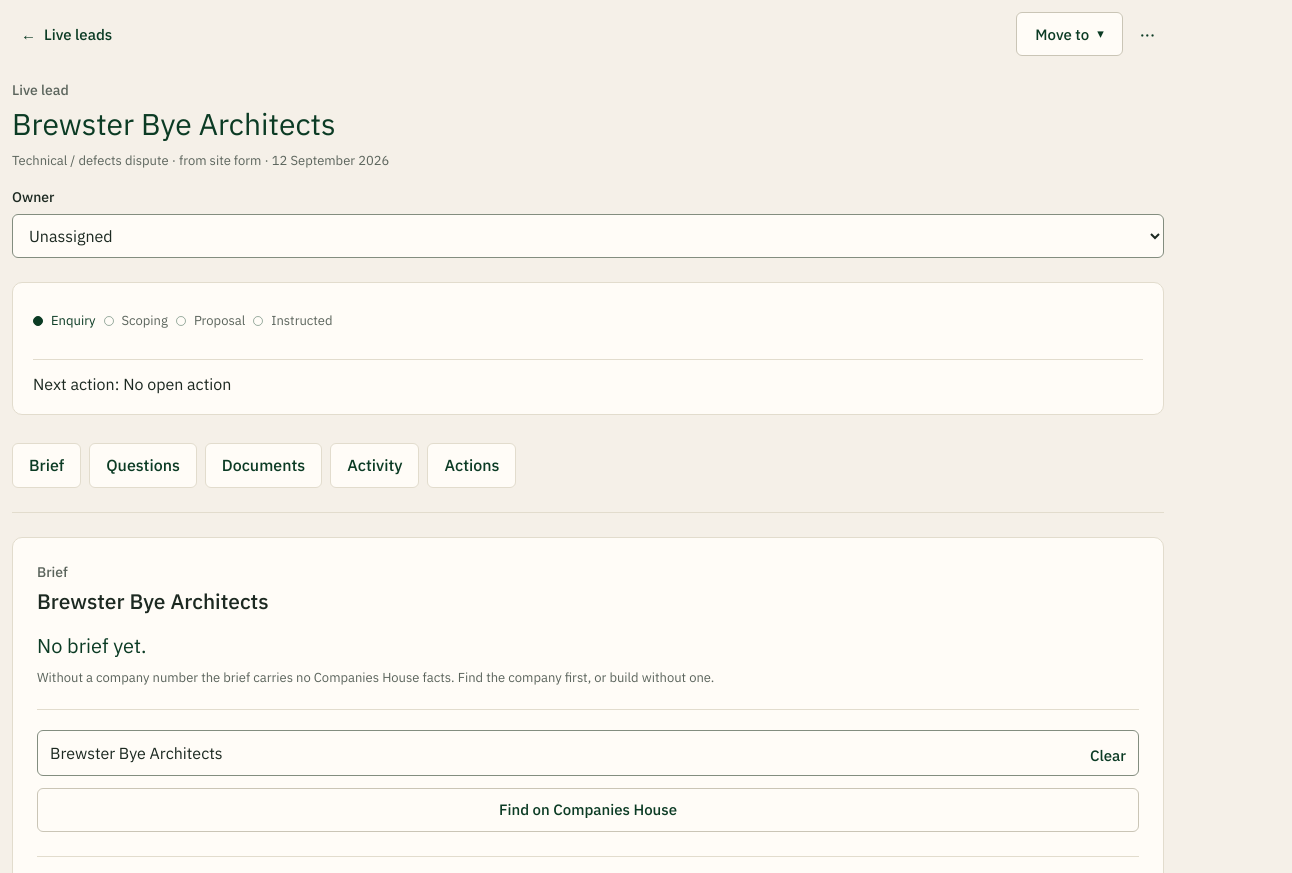
Test: returns focus to More actions when its unmounted Edit details menu item opened the drawer
Click the button named "More actions": click(1147, 34) [1131,12,1164,56]
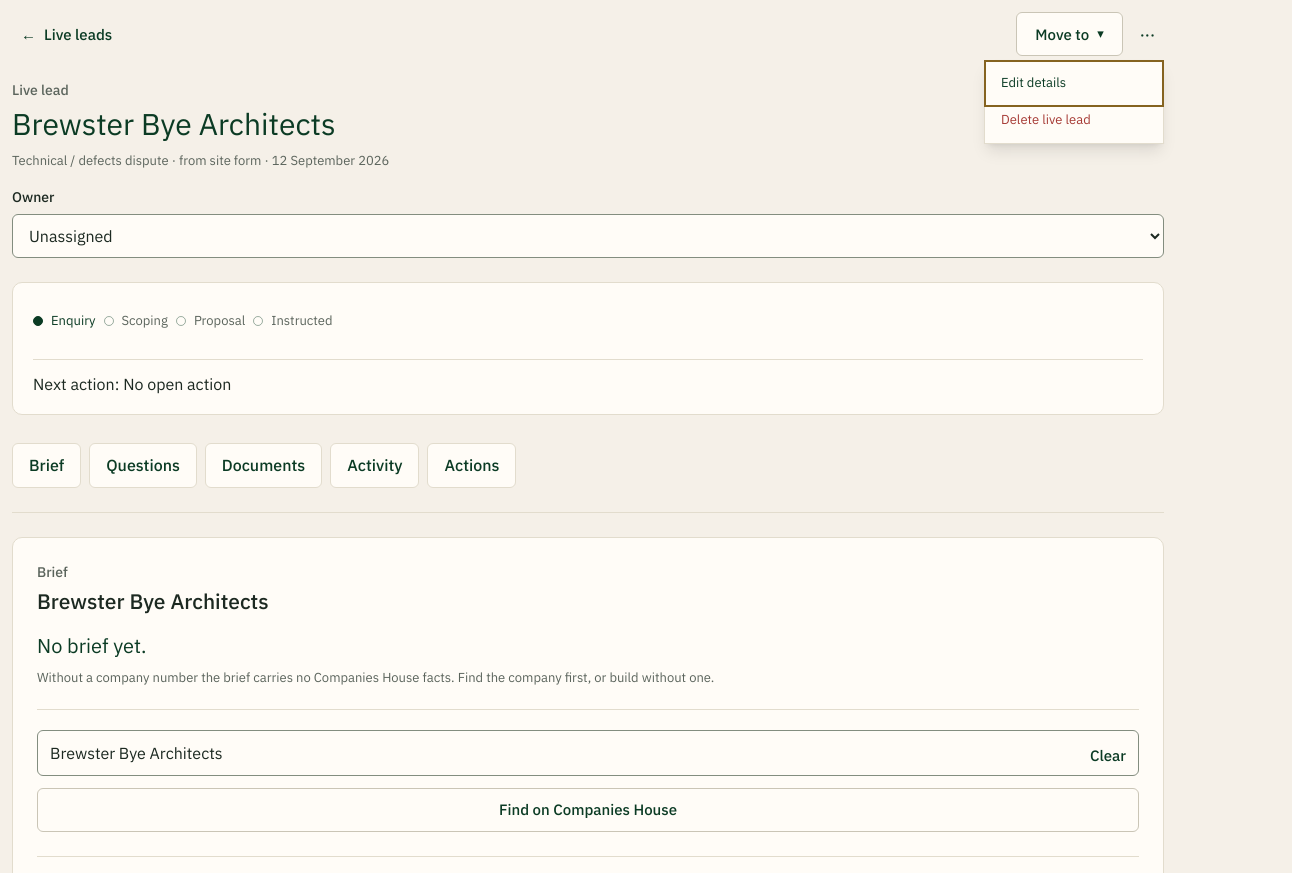
Click the menu item "Edit details": click(1074, 83) [989,65,1159,102]
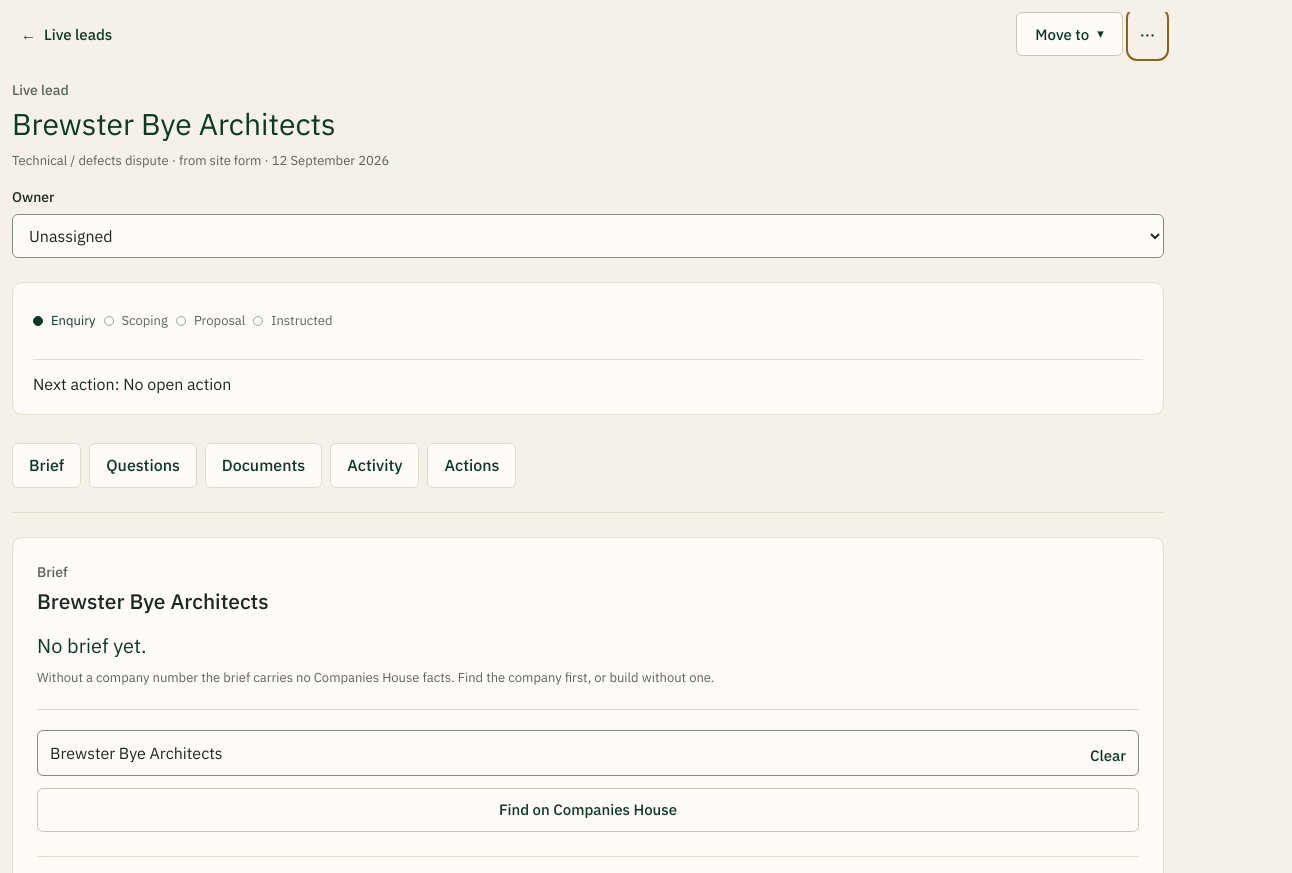
Check: the menu item "Edit details" is gone
